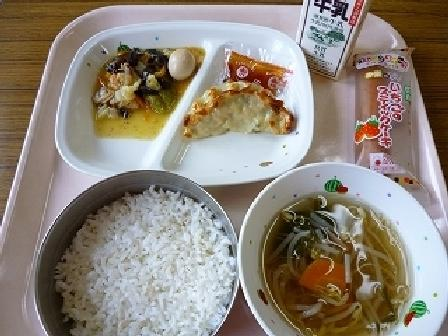Milk: (292, 0, 370, 72)
Rice: (37, 179, 238, 329)
Soups: (238, 170, 446, 335)
pastry: (342, 45, 432, 189), (188, 84, 300, 147)
vegetable based cooked food: (91, 38, 188, 127)
